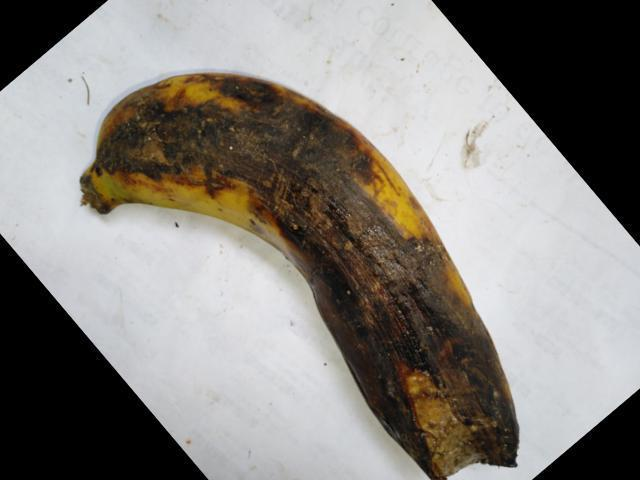rotten: (92, 83, 531, 466)
